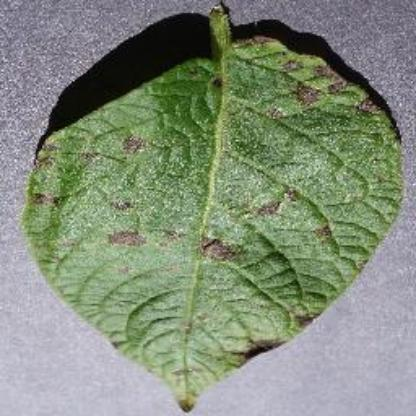Early-Blight: (26, 5, 398, 408)
